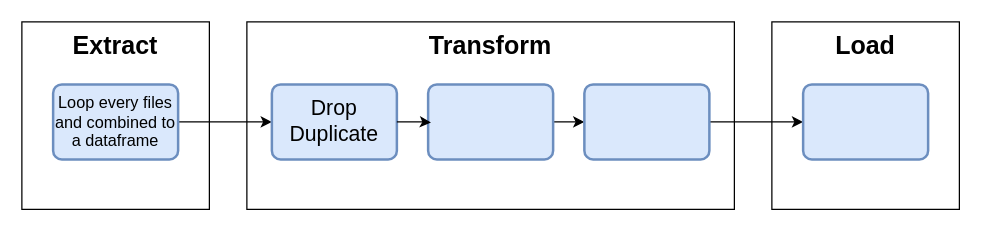
Some shapes in this 981 by 231 pixel diagram are drawn without their labels. The shapes that lost their labels are listed below. From the top down, each one's centre as x and y in pixels, then its label:
At (490,121): "Remove null value".
At (646,121): "Aggregation (count and sum)".
At (865,121): "Load to multiples format (parquet, csv, excel)".
